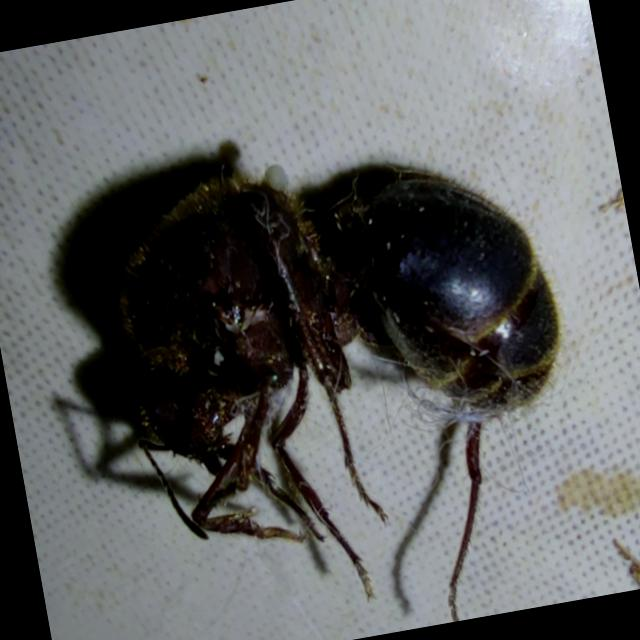Dead-Female-Dealate: (89, 109, 612, 640)
